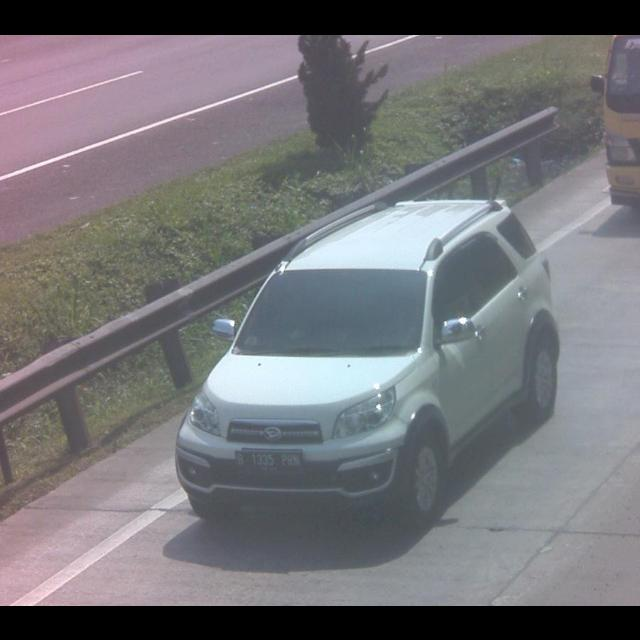plate: (232, 444, 306, 476)
